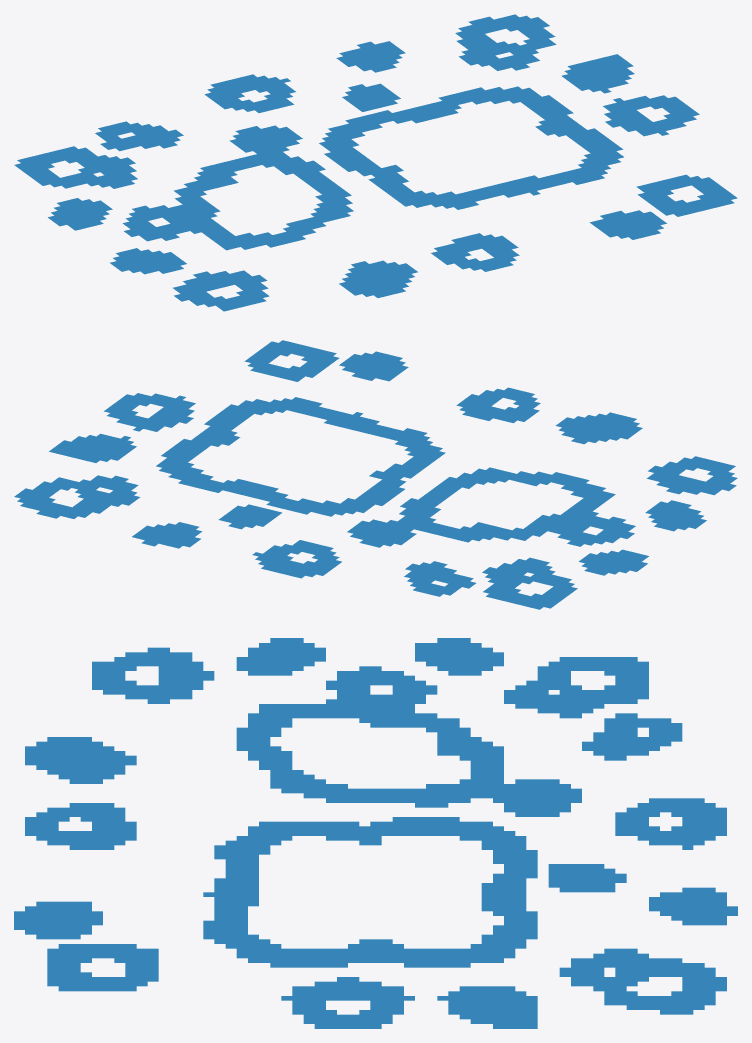
File: Isl-tutorial1-PlaceForWaterObjects.fbx
3 renders of one model, top to bottom at view 1: azimuth 30°, elevation 25°; view 2: azimuth 150°, elevation 25°; view 3: azimuth 270°, elevation 25°, orthographic. The views are drawn at different scales.
Visible parts, largest first — view 1: Isl-tutorial1-PlaceForWaterObjects; view 2: Isl-tutorial1-PlaceForWaterObjects; view 3: Isl-tutorial1-PlaceForWaterObjects.
Boxes of the visible parts, x1,y1,x2,y2 form: Isl-tutorial1-PlaceForWaterObjects: (14,14,737,311); Isl-tutorial1-PlaceForWaterObjects: (14,340,737,609); Isl-tutorial1-PlaceForWaterObjects: (14,638,737,1028).
Size of the model in its own units: 83 by 0 by 65.
